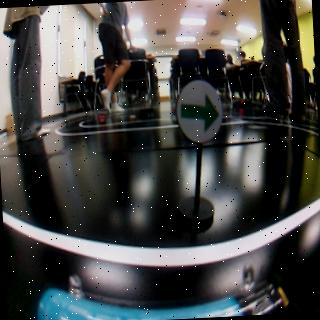right: (176, 78, 226, 145)
